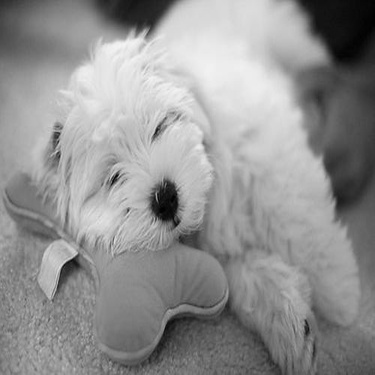dog: (22, 3, 360, 369)
